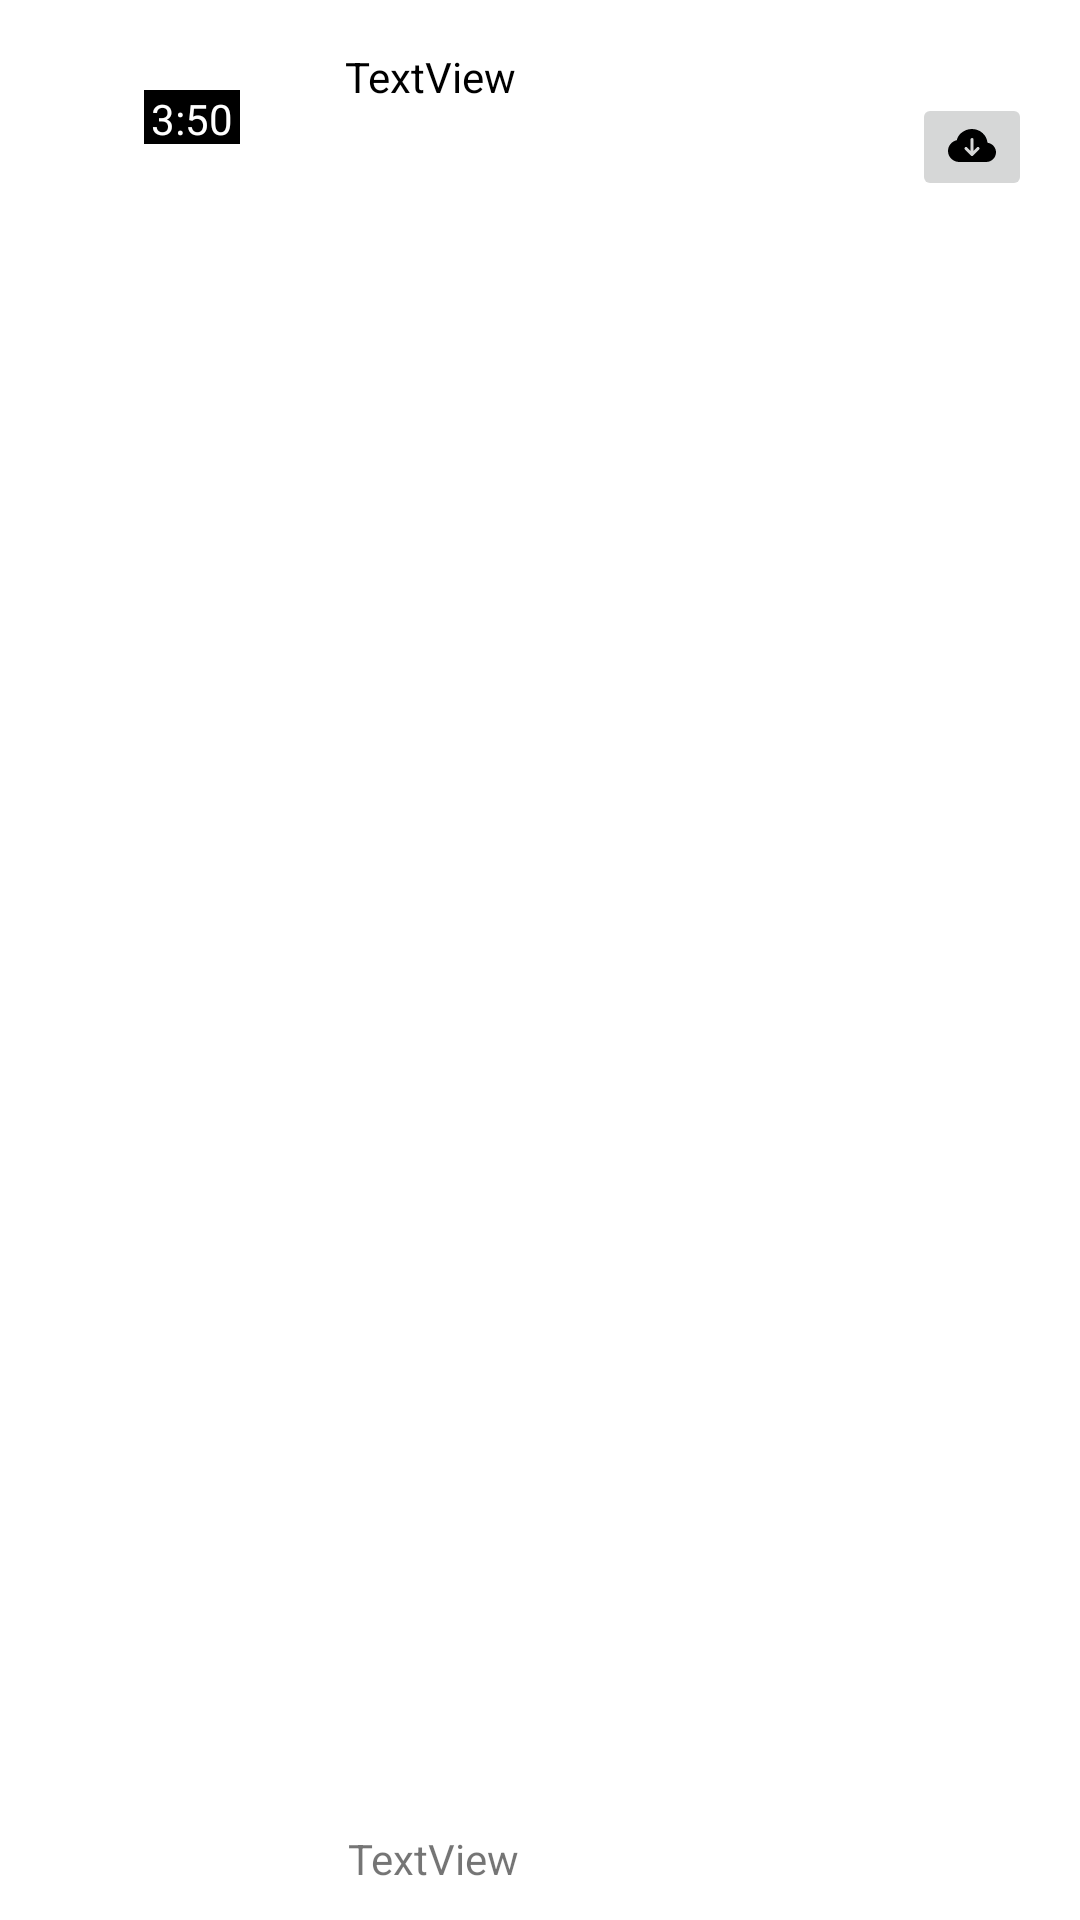

Screen size 1080w x 1920h. Icon name, then its center in pixels as (x,y):
download: (972,147)
